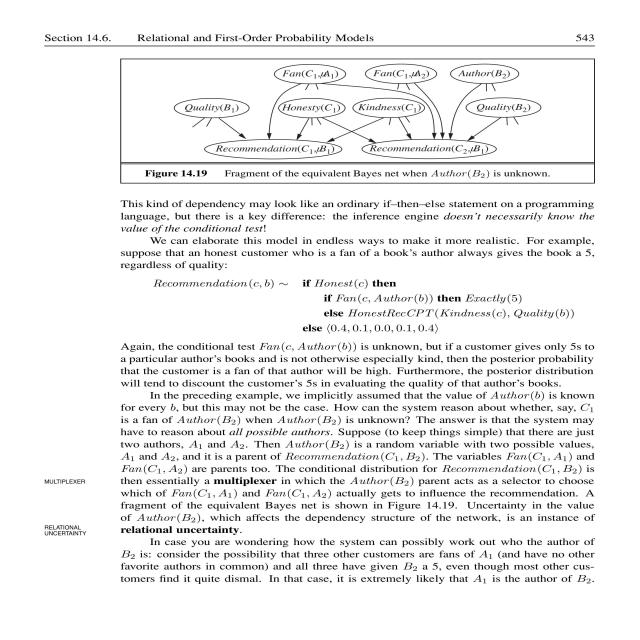diagram: (116, 58, 599, 184)
